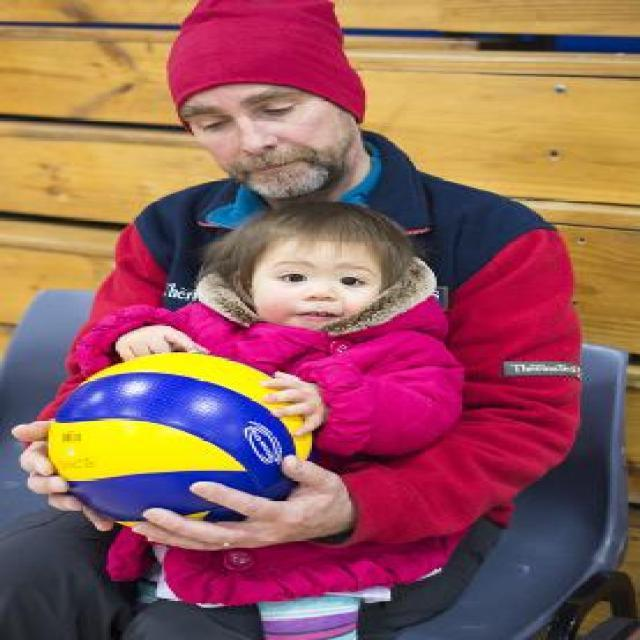volleyball: (48, 353, 314, 530)
